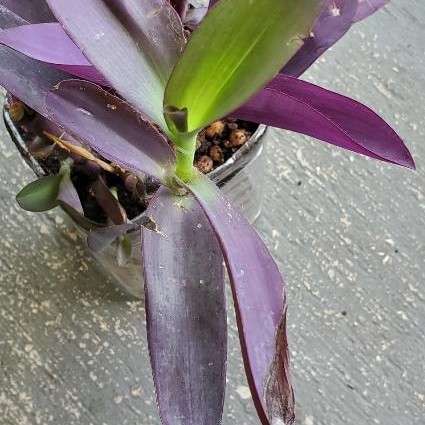obstacle: (21, 10, 384, 420)
